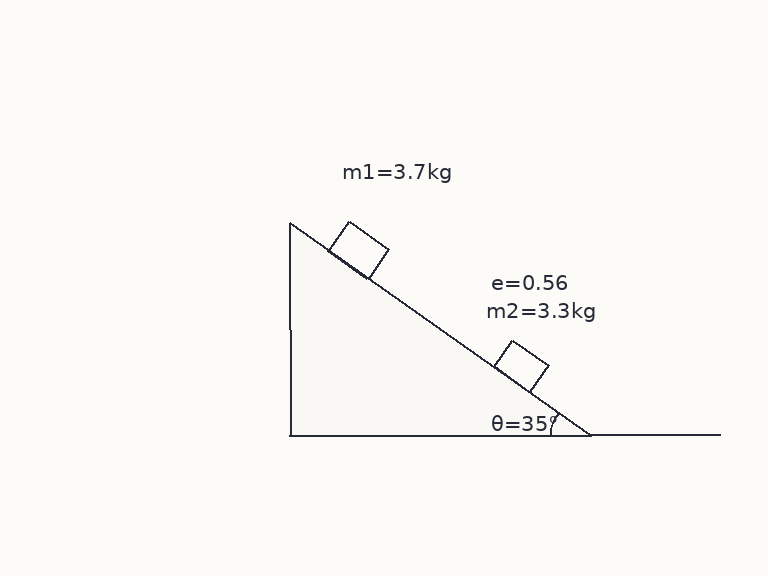block: (326, 219, 390, 281), (492, 338, 550, 394)
ramp: (287, 221, 593, 437)
